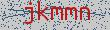j: (18, 1, 35, 29)
k: (37, 1, 50, 28)
m: (49, 1, 64, 29), (65, 3, 79, 27)
n: (77, 1, 93, 28)
